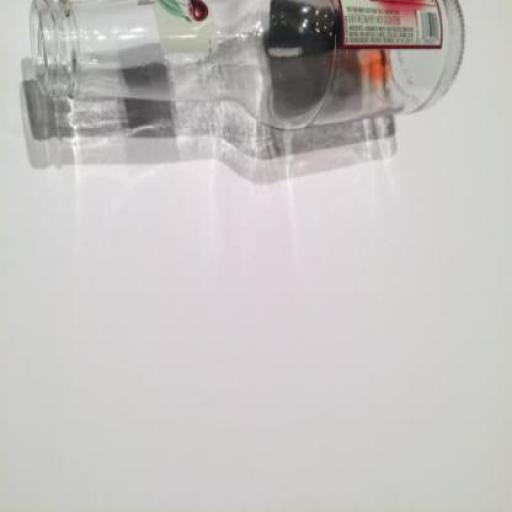glass: (29, 1, 466, 133)
